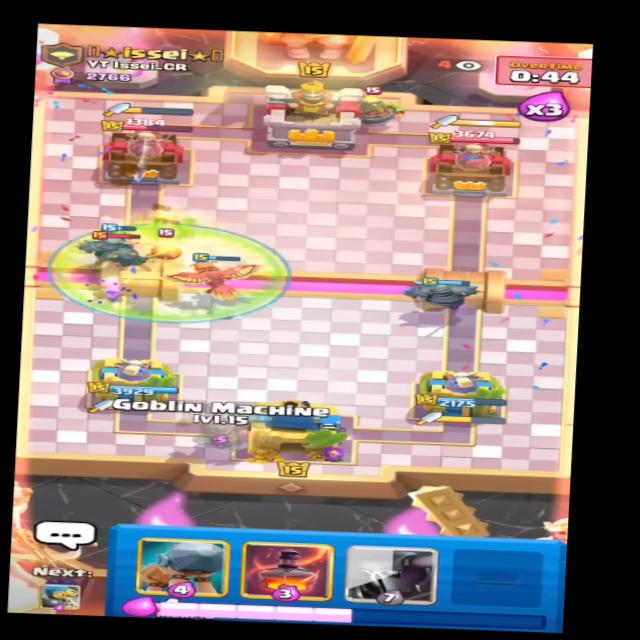goblin-demolisher: (355, 83, 409, 126)
pekka: (82, 222, 170, 266)
phoenix-egg: (144, 227, 188, 262)
